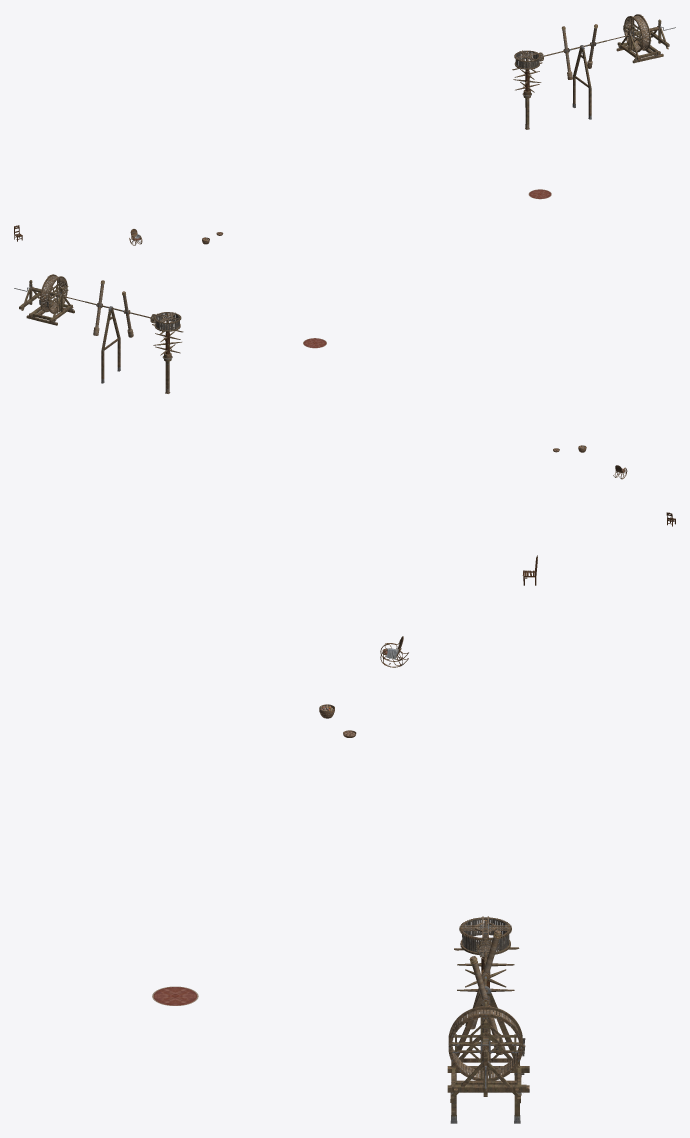
The model's file is enc_int_mizube.glb.
3 views of the same model, one above another, from view 1: azimuth 30°, elevation 25°; view 2: azimuth 150°, elevation 25°; view 3: azimuth 270°, elevation 25° (orthographic). The views are drawn at different scales.
Visible parts, largest first — view 1: KB3D_ECI_PropWheel_A_Main, KB3D_ECI_PropWheel_A_GearA, KB3D_ECI_PropWheel_A_GearC; view 2: KB3D_ECI_PropWheel_A_Main, KB3D_ECI_PropWheel_A_GearA, KB3D_ECI_PropWheel_A_GearC; view 3: KB3D_ECI_PropWheel_A_Main, KB3D_ECI_PropWheel_A_GearA, KB3D_ECI_PropWheel_A_GearC.
Boxes of the visible parts, x1,y1,x2,y2 form: KB3D_ECI_PropWheel_A_Main: [512, 19, 669, 129]; KB3D_ECI_PropWheel_A_GearA: [623, 14, 651, 52]; KB3D_ECI_PropWheel_A_GearC: [514, 50, 540, 69]; KB3D_ECI_PropWheel_A_Main: [19, 280, 183, 393]; KB3D_ECI_PropWheel_A_GearA: [39, 274, 68, 313]; KB3D_ECI_PropWheel_A_GearC: [154, 312, 181, 331]; KB3D_ECI_PropWheel_A_Main: [447, 947, 529, 1123]; KB3D_ECI_PropWheel_A_GearA: [448, 1006, 525, 1080]; KB3D_ECI_PropWheel_A_GearC: [459, 916, 511, 955].
Size of the model in its own units: 66.38 by 8.86 by 17.08.
16 materials, 16 textured.
